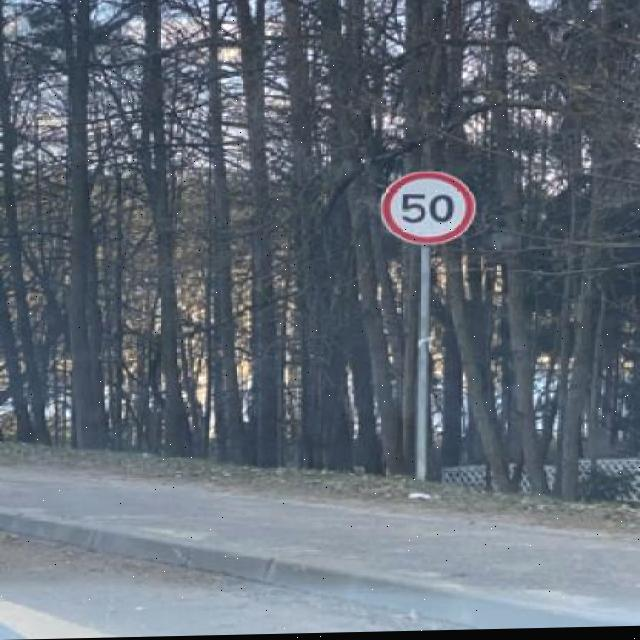Speed limit 50: (377, 168, 480, 251)
